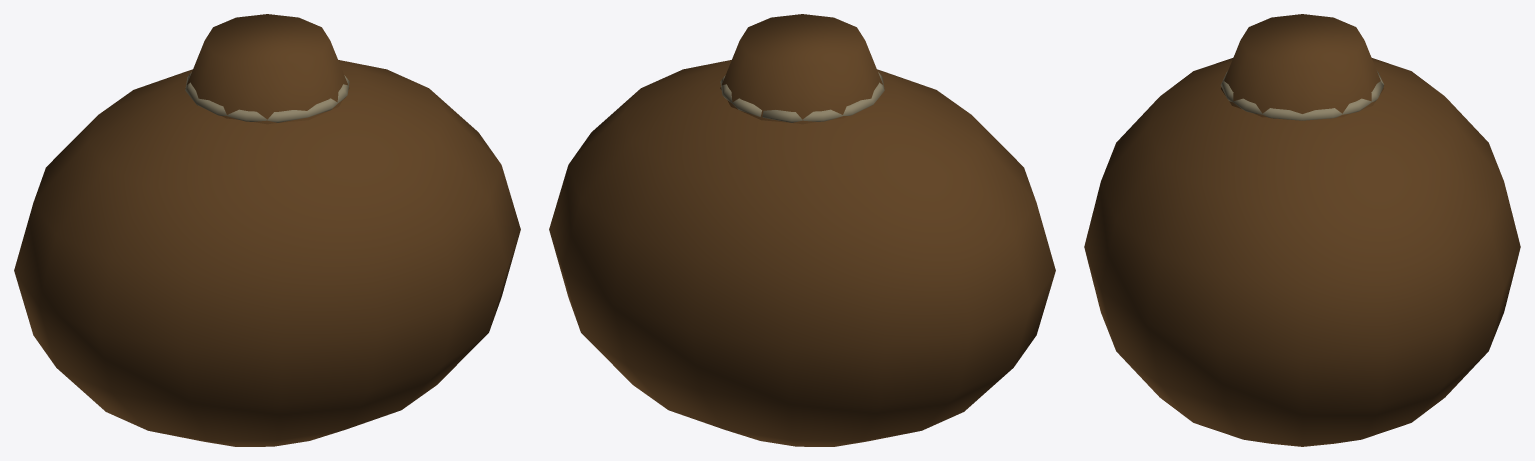
The model's file is pouch.glb.
3 renders of one model, left to right at view 1: azimuth 30°, elevation 25°; view 2: azimuth 150°, elevation 25°; view 3: azimuth 270°, elevation 25°, orthographic.
Parts seen in each view (by area): view 1: MV_pouch; view 2: MV_pouch; view 3: MV_pouch.
Boxes of the visible parts, x1,y1,x2,y2 form: MV_pouch: (14, 14, 520, 446); MV_pouch: (549, 14, 1055, 446); MV_pouch: (1084, 14, 1520, 446).
Bounding box in the file's own units: 0.2125 × 0.17 × 0.1781.
